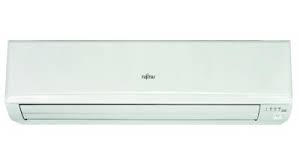ac: (2, 37, 295, 127)
